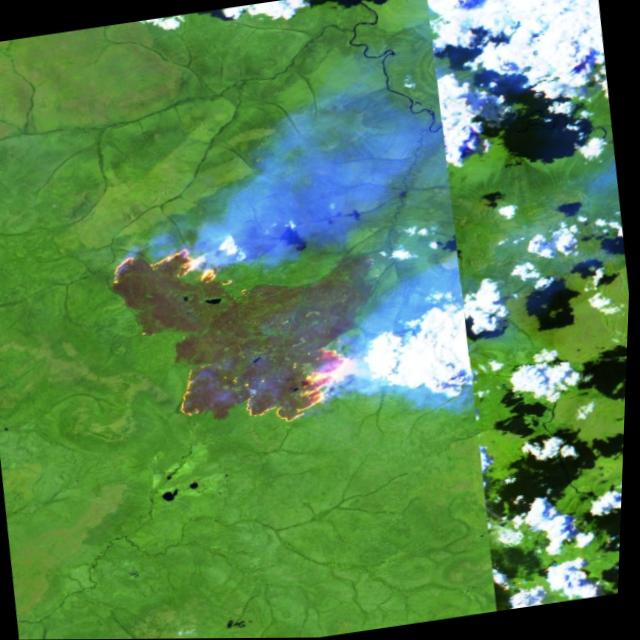fire: (97, 218, 383, 451)
